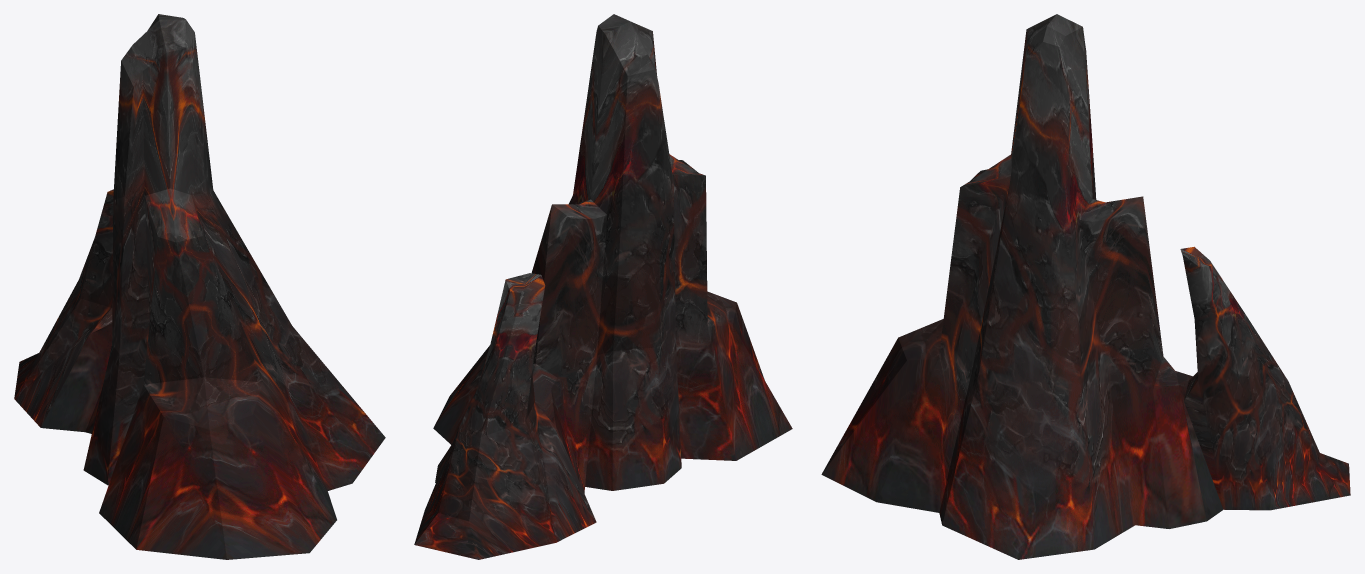
File: 10504_LavaStone10.FBX
3 views of the same model, side by side, from view 1: azimuth 30°, elevation 25°; view 2: azimuth 150°, elevation 25°; view 3: azimuth 270°, elevation 25° (orthographic). The views are drawn at different scales.
Visible parts, largest first — view 1: 10504_LavaStone10; view 2: 10504_LavaStone10; view 3: 10504_LavaStone10.
Boxes of the visible parts, box(x1,y1,x2,y2) form: 10504_LavaStone10: box(14, 14, 385, 559); 10504_LavaStone10: box(414, 14, 792, 559); 10504_LavaStone10: box(821, 14, 1350, 559).
Size of the model in its own units: 727 by 1042 by 1118.
